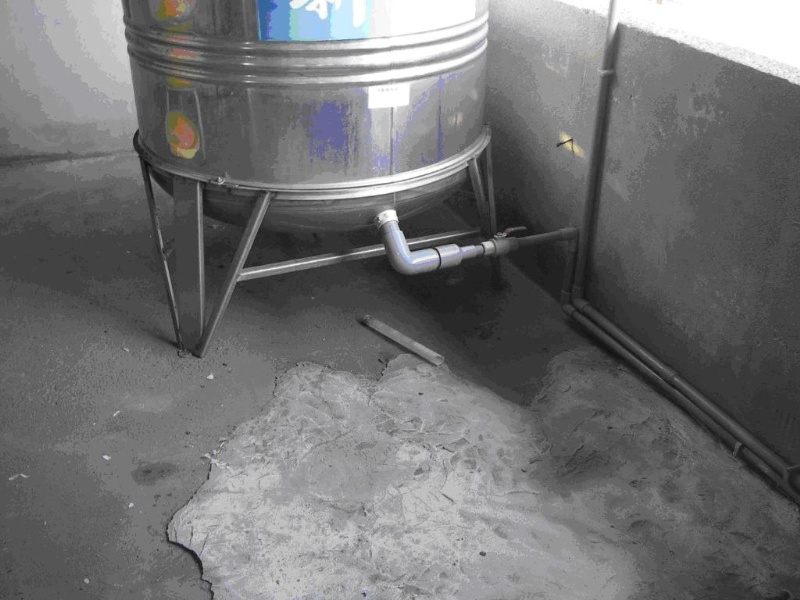water_tower: (117, 1, 499, 351)
